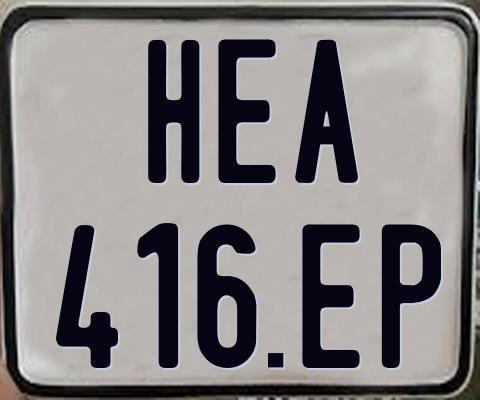1: (134, 221, 175, 370)
4: (56, 224, 120, 372)
6: (196, 221, 261, 370)
A: (295, 38, 359, 184)
E: (301, 224, 364, 371), (216, 38, 277, 186)
H: (147, 39, 204, 186)
P: (380, 223, 445, 373)
